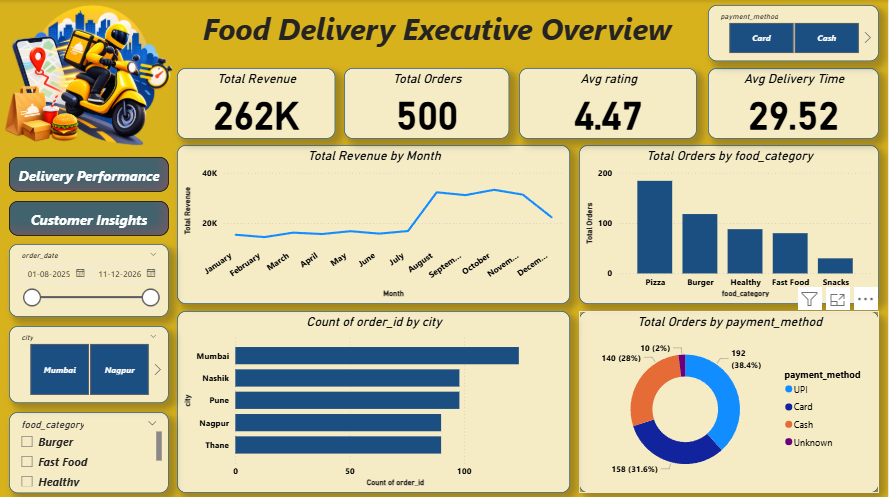

Layout of this report page (visuals, bound fields, positions):
{"tool":"powerbi","page":{"name":"Executive Overview","canvas":[1280,720],"ordinal":0},"visuals":[{"type":"lineChart","fields":{"Category":["food_delivery.order_date.Variation.Date Hierarchy.Month"],"Y":["food_delivery.Total Revenue"]},"box":[254.9,208.8,565.9,229],"z":0},{"type":"clusteredColumnChart","fields":{"Category":["food_delivery.food_category"],"Y":["food_delivery.Total Orders"]},"box":[833.8,208.8,432,229],"z":1000},{"type":"donutChart","fields":{"Category":["food_delivery.payment_method"],"Y":["food_delivery.Total Orders"]},"box":[833.8,447.8,432,262.1],"z":2000},{"type":"barChart","fields":{"Category":["food_delivery.city"],"Y":["CountNonNull(food_delivery.order_id)"]},"box":[254.9,447.8,565.9,262.1],"z":3000},{"type":"card","title":"Total Revenue","fields":{"Values":["food_delivery.Total Revenue"]},"box":[254.9,97.9,227.5,102.2],"z":4000},{"type":"card","title":"Total Orders","fields":{"Values":["food_delivery.Total Orders"]},"box":[495.4,97.9,237.6,102.2],"z":5000},{"type":"card","title":"Avg rating","fields":{"Values":["food_delivery.Average Rating"]},"box":[747.4,97.9,256.3,102.2],"z":6000},{"type":"card","title":"Avg Delivery Time","fields":{"Values":["food_delivery.Average Delivery Time"]},"box":[1019.5,97.9,246.2,102.2],"z":7000},{"type":"slicer","fields":{"Values":["food_delivery.food_category"]},"box":[13,593.3,230.4,116.6],"z":8000},{"type":"slicer","fields":{"Values":["food_delivery.order_date"]},"box":[13,351.4,230.4,105.1],"z":9000},{"type":"slicer","fields":{"Values":["food_delivery.city"]},"box":[13,469.4,230.4,110.9],"z":10000},{"type":"slicer","fields":{"Values":["food_delivery.payment_method"]},"box":[1019.5,7.2,246.2,80.6],"z":11000},{"type":"textbox","box":[255.3,6.7,749.2,80.6],"z":12000},{"type":"image","box":[0,0,254.9,226.1],"z":13000},{"type":"actionButton","box":[13,226.1,230.4,50.4],"z":14000},{"type":"actionButton","box":[13,289.4,230.4,50.4],"z":15000}]}

Visuals, with their boxes in screenshot pixels (x1, y1, x2, y2), scaled from the page's 1280x720 canvas onto the 889x497 screenshot:
lineChart - food_delivery.order_date.Variation.Date Hierarchy.Month x food_delivery.Total Revenue: l=177, t=144, r=570, b=302
clusteredColumnChart - food_delivery.food_category x food_delivery.Total Orders: l=579, t=144, r=879, b=302
donutChart - food_delivery.payment_method x food_delivery.Total Orders: l=579, t=309, r=879, b=490
barChart - food_delivery.city x CountNonNull(food_delivery.order_id): l=177, t=309, r=570, b=490
"Total Revenue" card: l=177, t=68, r=335, b=138
"Total Orders" card: l=344, t=68, r=509, b=138
"Avg rating" card: l=519, t=68, r=697, b=138
"Avg Delivery Time" card: l=708, t=68, r=879, b=138
slicer - food_delivery.food_category: l=9, t=410, r=169, b=490
slicer - food_delivery.order_date: l=9, t=243, r=169, b=315
slicer - food_delivery.city: l=9, t=324, r=169, b=401
slicer - food_delivery.payment_method: l=708, t=5, r=879, b=61
textbox: l=177, t=5, r=698, b=60
image: l=0, t=0, r=177, b=156
actionButton: l=9, t=156, r=169, b=191
actionButton: l=9, t=200, r=169, b=235
